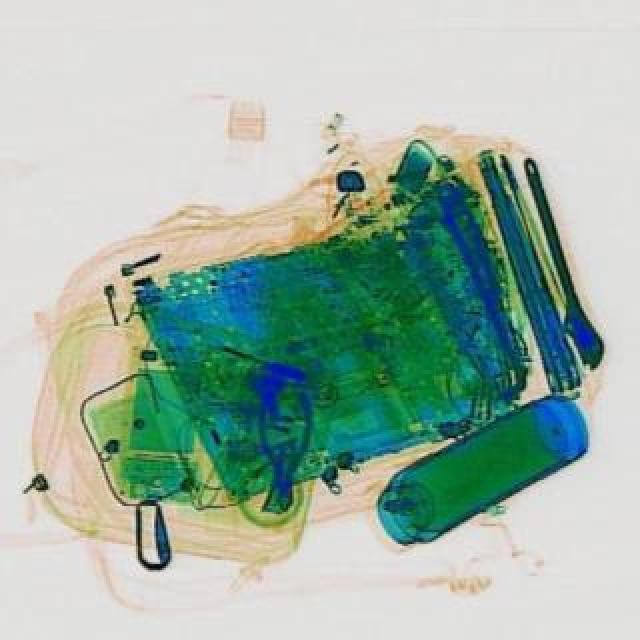scissors: (506, 152, 606, 374)
wrench: (434, 178, 516, 338), (252, 386, 312, 508)
